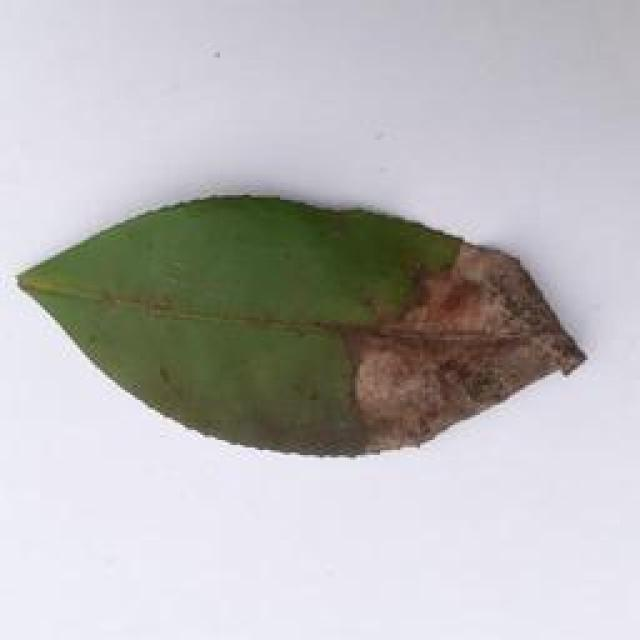Gray Blight: (11, 189, 604, 464)
